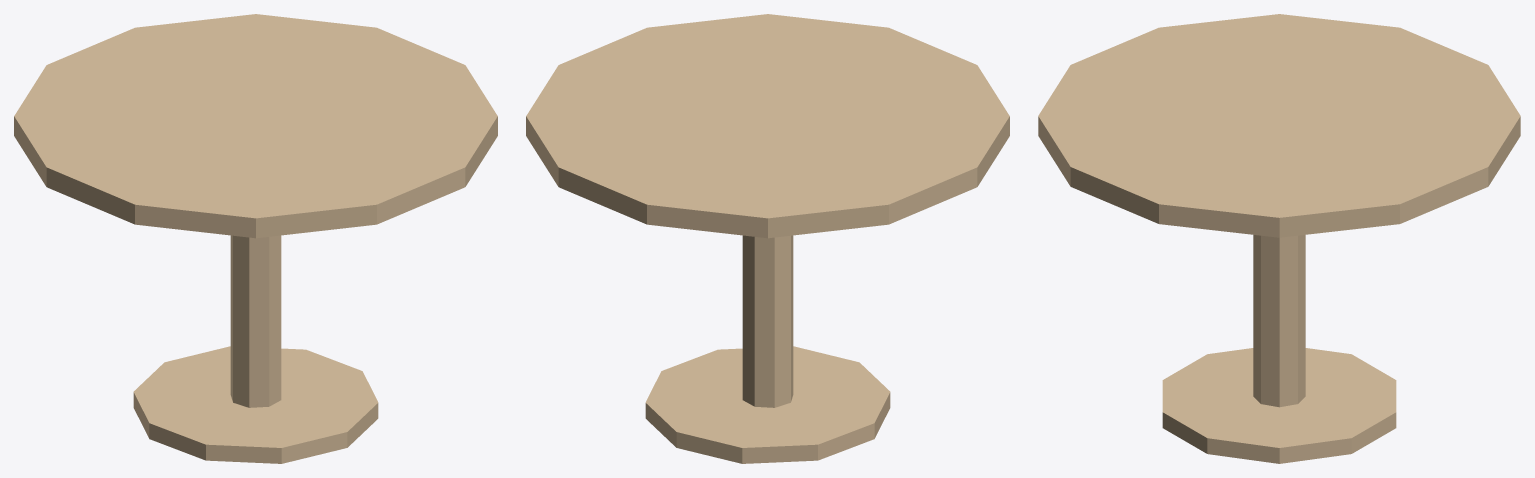
File: round-table.glb
3 views of the same model, side by side, from view 1: azimuth 30°, elevation 25°; view 2: azimuth 150°, elevation 25°; view 3: azimuth 270°, elevation 25° (orthographic).
Parts seen in each view (by area): view 1: root; view 2: root; view 3: root.
Boxes of the visible parts, <box> form: root: <box>14,14,497,463</box>; root: <box>526,14,1009,463</box>; root: <box>1038,14,1520,463</box>.
Bounding box in the file's own units: 1.1 × 0.755 × 1.1.
